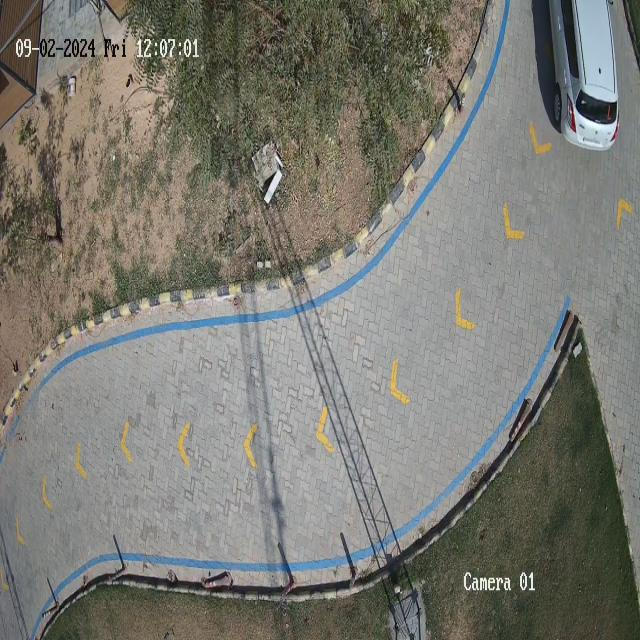car: (550, 1, 619, 151)
